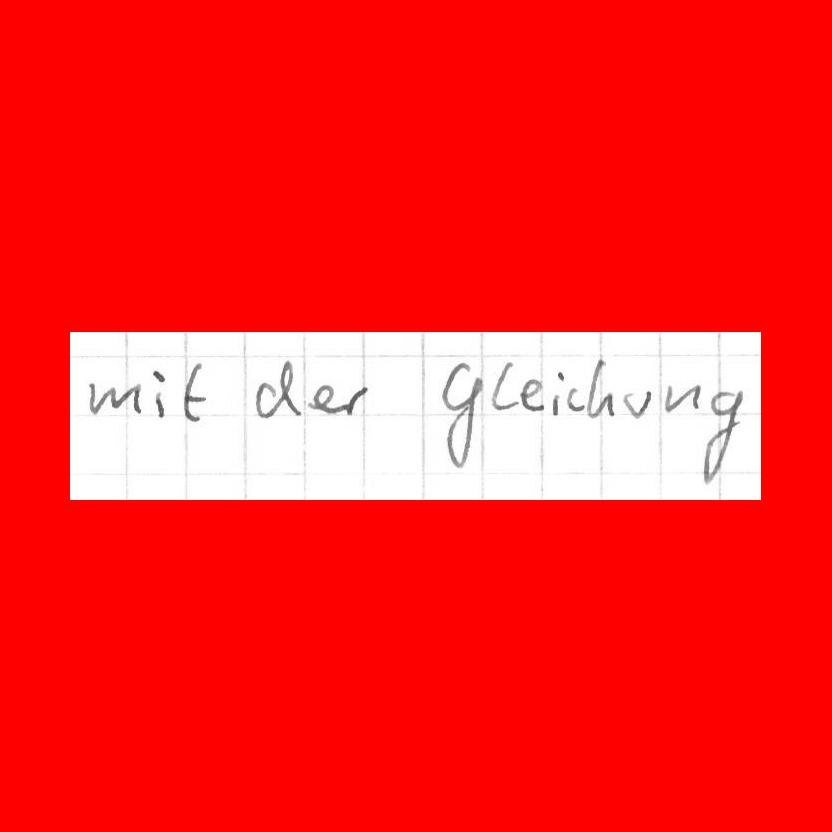Char: (438, 359, 482, 465), (697, 389, 746, 481), (254, 356, 301, 419), (89, 381, 143, 419), (586, 357, 615, 421), (179, 360, 208, 423), (489, 359, 516, 413), (663, 382, 702, 414), (337, 384, 369, 418), (519, 376, 544, 414), (623, 387, 651, 420), (310, 382, 337, 414), (150, 366, 165, 418), (566, 384, 585, 417), (551, 366, 563, 417)
